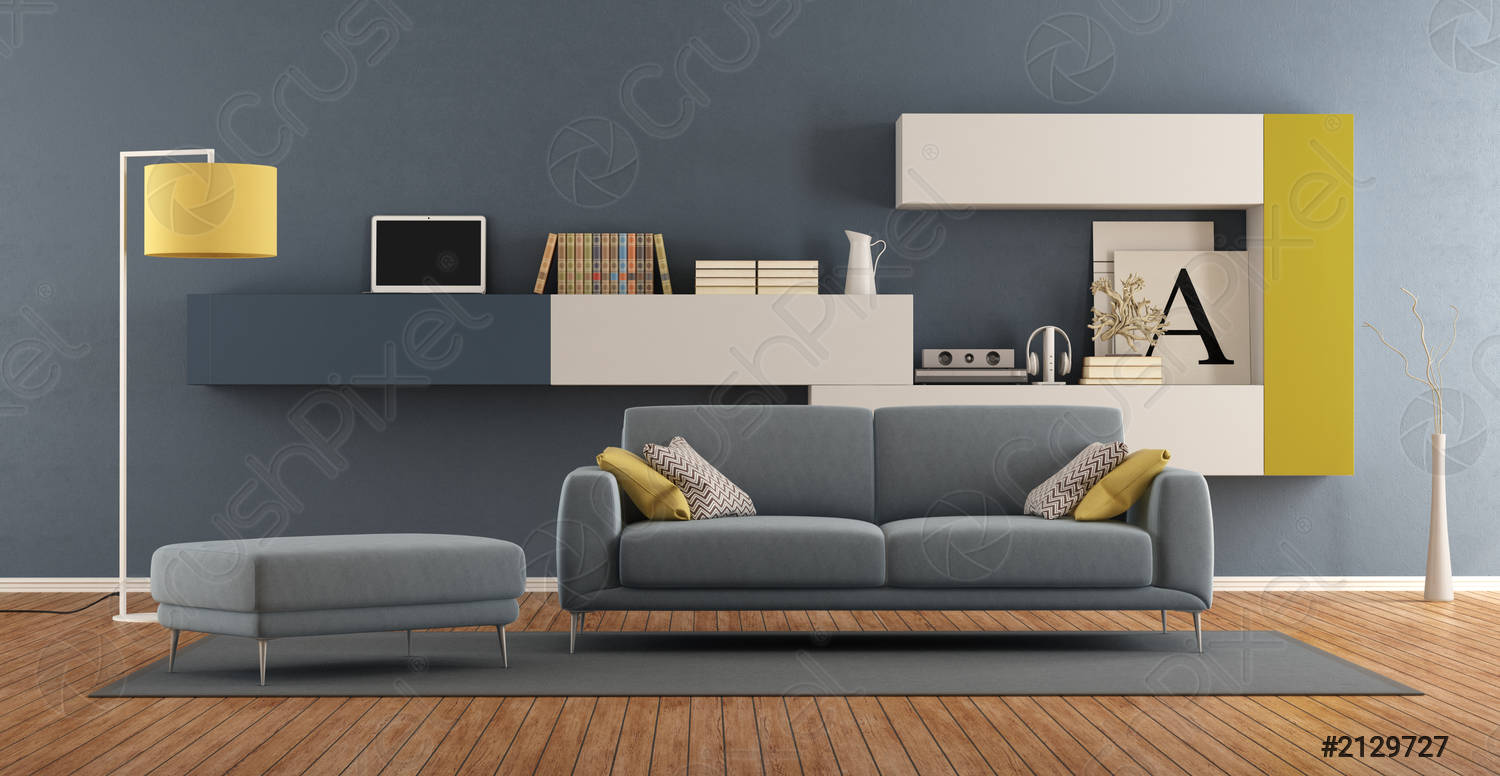kuning: (135, 161, 287, 260), (600, 447, 687, 520), (1087, 447, 1153, 521)
putih: (1424, 439, 1460, 603), (846, 228, 885, 294)
